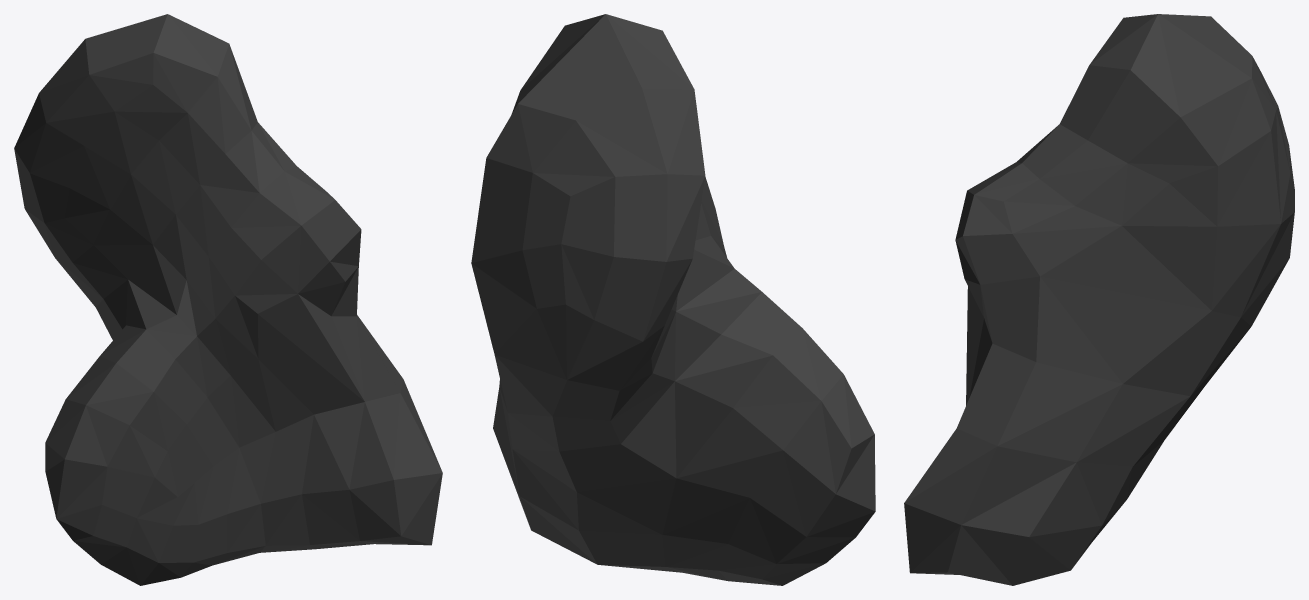
Rendered from LHL_base2.glb.
3 views of the same model, side by side, from view 1: azimuth 30°, elevation 25°; view 2: azimuth 150°, elevation 25°; view 3: azimuth 270°, elevation 25° (orthographic). The views are drawn at different scales.
Visible parts, largest first — view 1: LHL_base2; view 2: LHL_base2; view 3: LHL_base2.
Part boxes in pixels (x1,y1,x2,y2): LHL_base2: (14,14,442,585); LHL_base2: (471,14,875,585); LHL_base2: (904,14,1294,585).
Size of the model in its own units: 12.25 by 17.68 by 12.
1 material, 1 textured.
